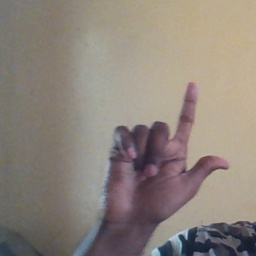L: (94, 81, 227, 220)
